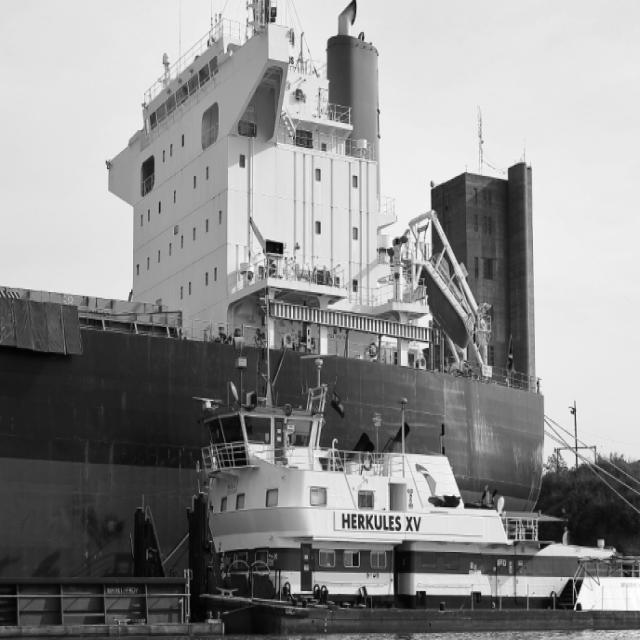tugboat: (128, 283, 640, 640)
